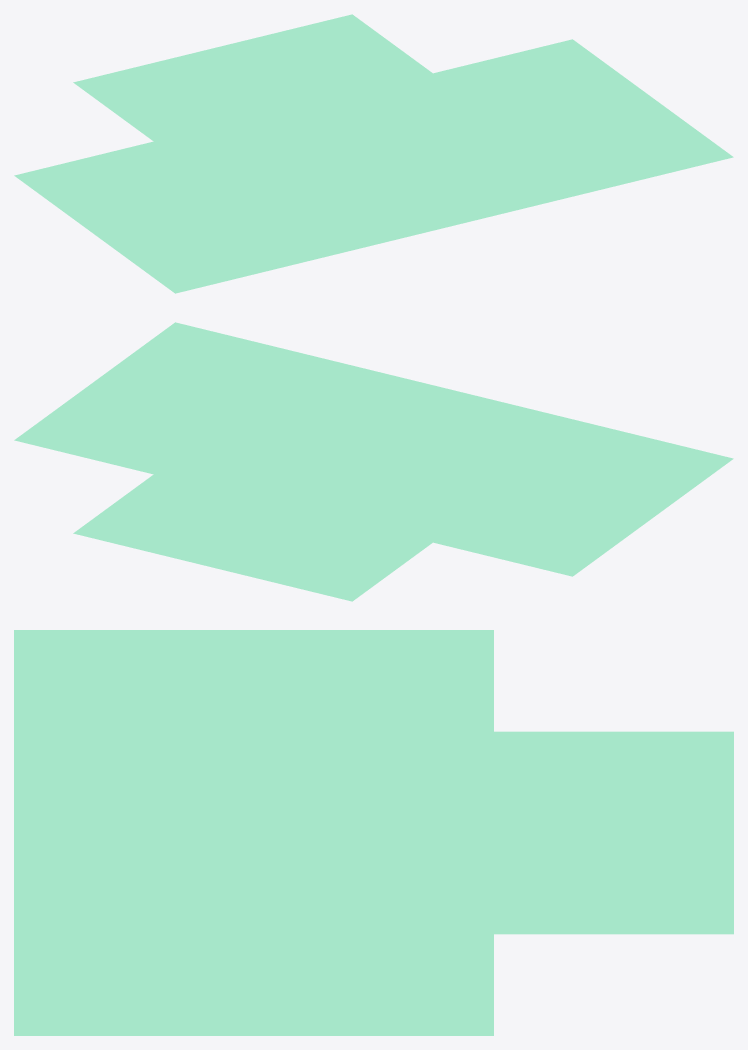
File: navmesh.glb
3 views of the same model, one above another, from view 1: azimuth 30°, elevation 25°; view 2: azimuth 150°, elevation 25°; view 3: azimuth 270°, elevation 25° (orthographic). The views are drawn at different scales.
Visible parts, largest first — view 1: NAVMESH; view 2: NAVMESH; view 3: NAVMESH.
Part boxes in pixels (<box>): NAVMESH: <box>14,14,733,293</box>; NAVMESH: <box>14,322,733,601</box>; NAVMESH: <box>14,630,733,1035</box>.
Bounding box in the file's own units: 2 × 0 × 1.5.
